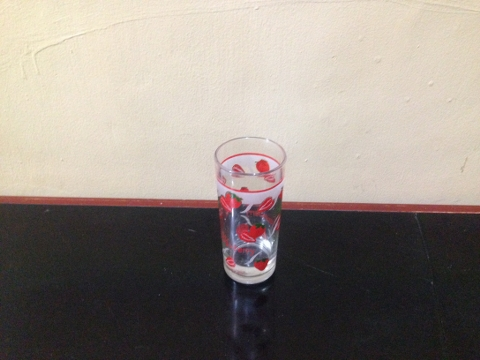tempat minum: (214, 136, 287, 285)
